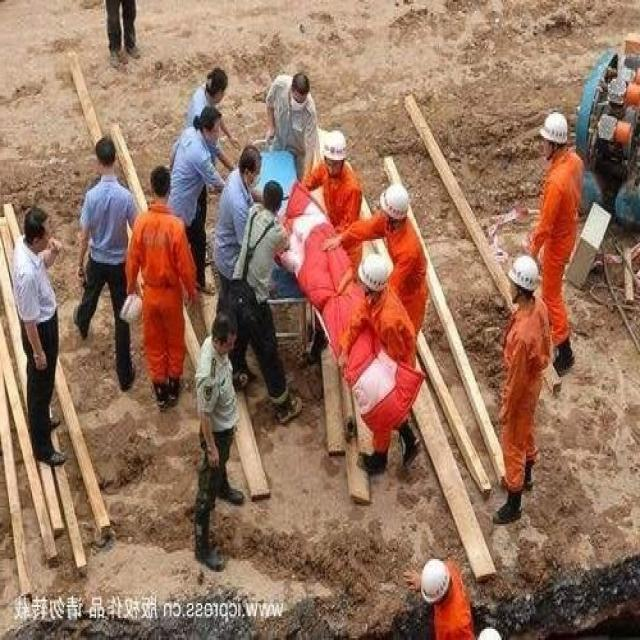helmet: (504, 253, 550, 293), (414, 557, 454, 603), (358, 250, 400, 288), (376, 181, 414, 218), (321, 122, 346, 160), (539, 111, 570, 140)
